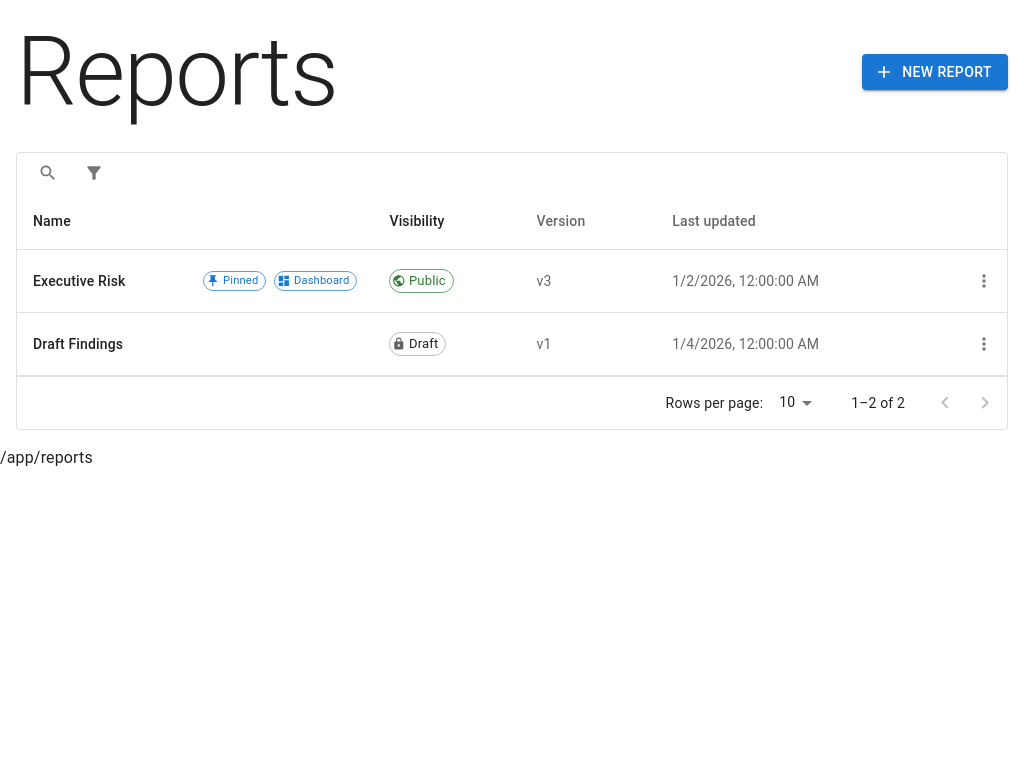
Test: ReportsList › shows the delete failure in the confirmation dialog
Click the button named "More actions" in the row of "Executive Risk": click(984, 281) [969, 266, 999, 296]
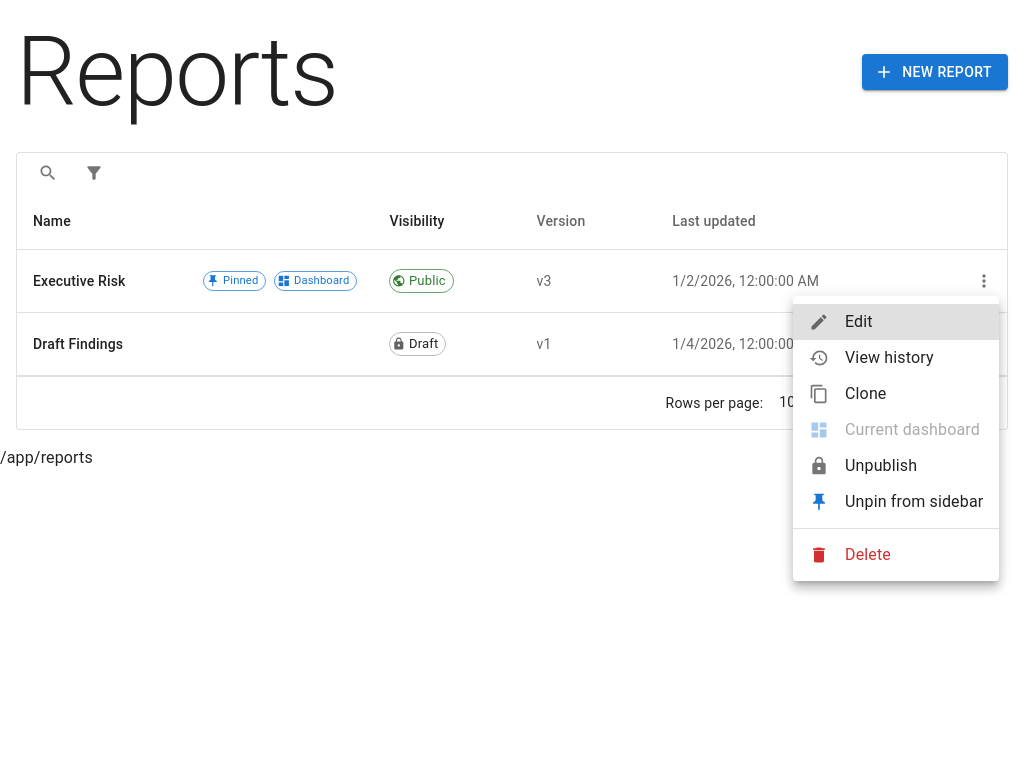
Click the menu item "Delete": click(850, 555) [809, 545, 891, 565]
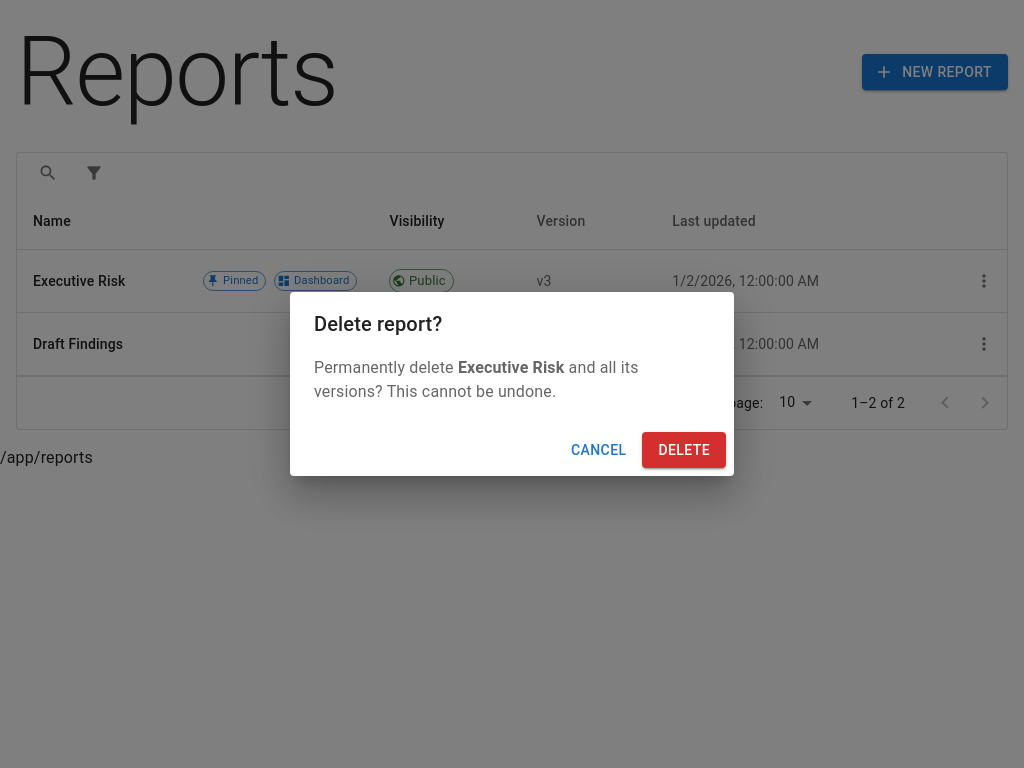
Click the button "Delete": click(684, 450) [642, 432, 726, 468]
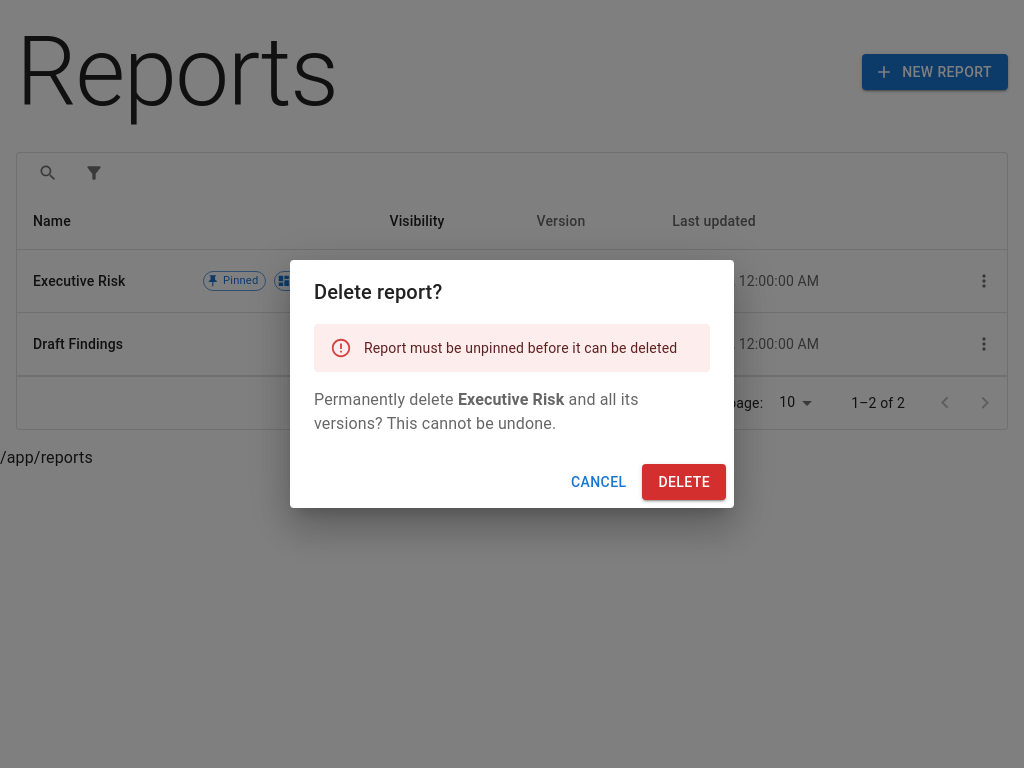
Now the dialog "Delete report?" is shown, box [290, 260, 734, 508]
Now the text "Report must be unpinned before it can be deleted" is shown, box [364, 340, 677, 356]
